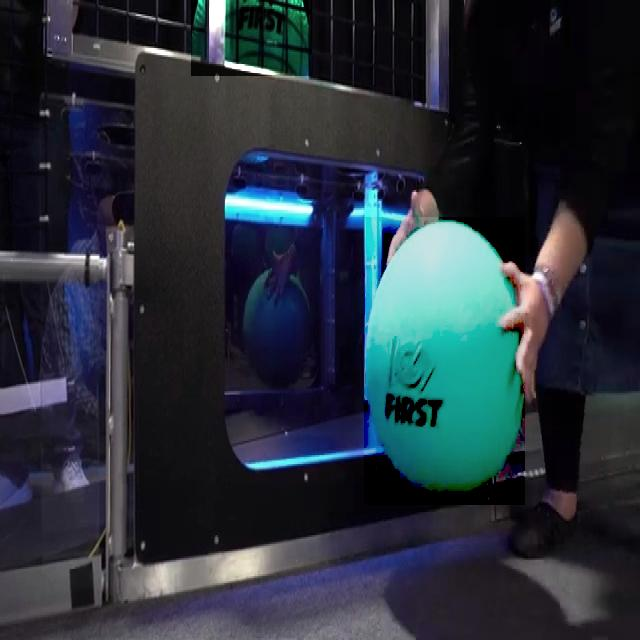Algae: (364, 217, 525, 505), (191, 0, 312, 76)
